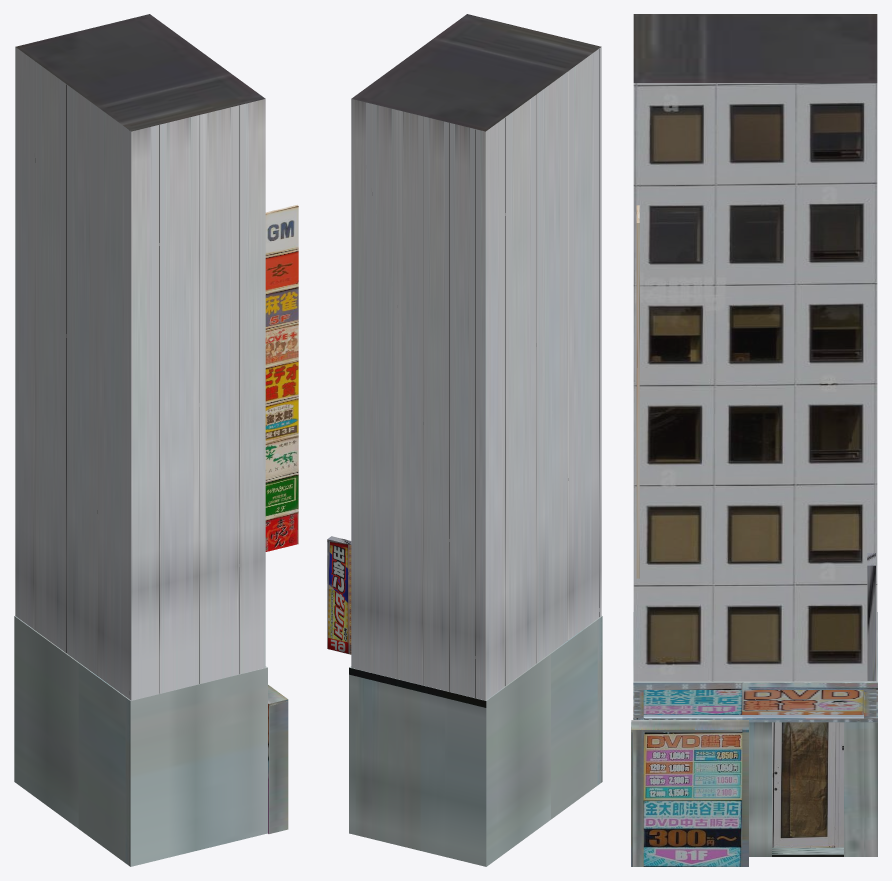
Rendered from building-kamurocho-006.fbx.
3 renders of one model, left to right at view 1: azimuth 30°, elevation 25°; view 2: azimuth 150°, elevation 25°; view 3: azimuth 270°, elevation 25°, orthographic. The views are drawn at different scales.
Visible parts, largest first — view 1: Cube.002, Cube, Cube.003; view 2: Cube.002, Cube, Cube.004; view 3: Cube.002, Cube, Cube.001, Cube.003, Cube.004.
Boxes of the visible parts, left/top/right/bottom form: Cube.002: left=15, top=14, right=265, bottom=700; Cube: left=14, top=616, right=288, bottom=866; Cube.003: left=265, top=205, right=298, bottom=551; Cube.002: left=351, top=14, right=601, bottom=700; Cube: left=349, top=616, right=602, bottom=866; Cube.004: left=327, top=536, right=351, bottom=654; Cube.002: left=633, top=14, right=877, bottom=681; Cube: left=631, top=612, right=877, bottom=866; Cube.001: left=772, top=722, right=843, bottom=847; Cube.003: left=636, top=205, right=639, bottom=578; Cube.004: left=867, top=553, right=875, bottom=680.
Size of the model in its own units: 444 by 1840 by 532.
Materials: 5 (5 with a texture image).
